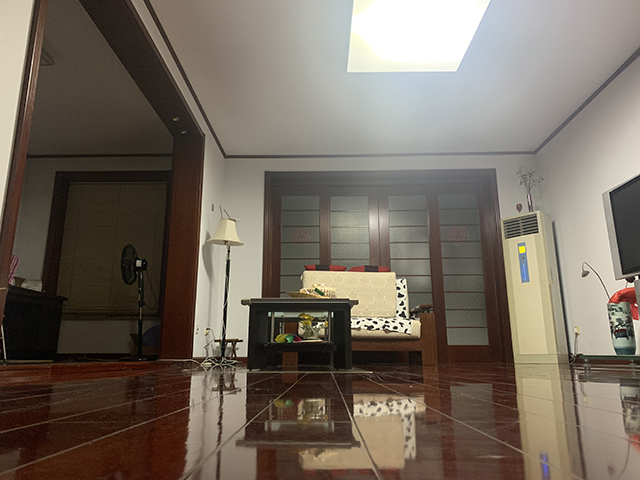cabinet: (1, 282, 68, 363)
sofa: (282, 263, 440, 368)
stool: (214, 337, 244, 367)
table: (239, 296, 360, 371)
wire: (158, 326, 241, 371), (569, 332, 590, 365)
